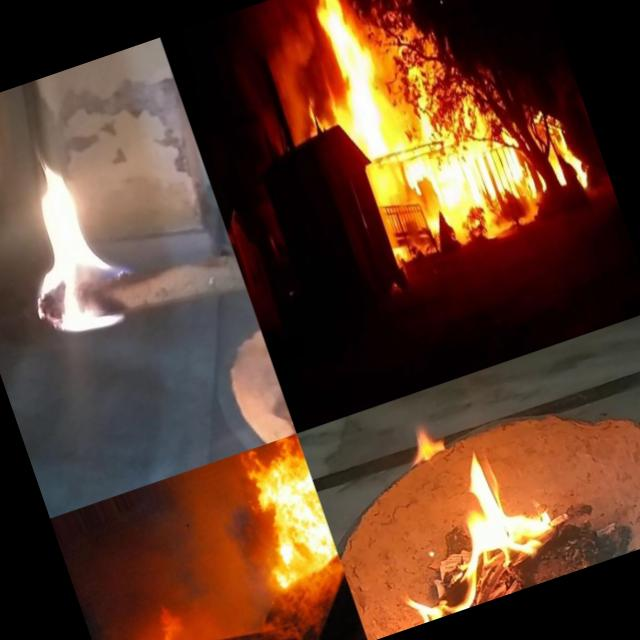fire: (0, 129, 164, 354), (363, 452, 571, 629), (298, 0, 416, 176), (222, 433, 342, 594), (540, 106, 602, 220), (101, 589, 226, 640), (294, 76, 346, 136)
